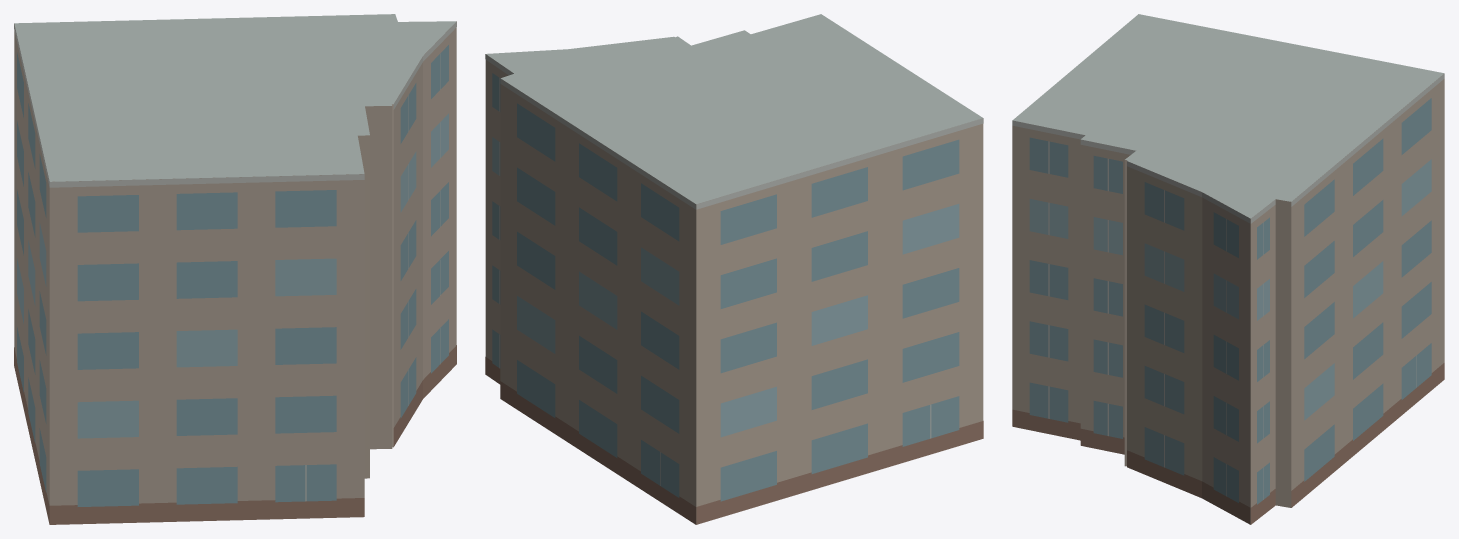
File: survey-upis-32808185.glb
3 renders of one model, left to right at view 1: azimuth 30°, elevation 25°; view 2: azimuth 150°, elevation 25°; view 3: azimuth 270°, elevation 25°, orthographic. The views are drawn at different scales.
Visible parts, largest first — view 1: survey-upis-32808185.tmp; view 2: survey-upis-32808185.tmp; view 3: survey-upis-32808185.tmp.
Part boxes in pixels (<box>): survey-upis-32808185.tmp: <box>14,14,456,524</box>; survey-upis-32808185.tmp: <box>485,14,983,524</box>; survey-upis-32808185.tmp: <box>1012,14,1444,524</box>.
Size of the model in its own units: 20.46 by 14.27 by 18.26.
